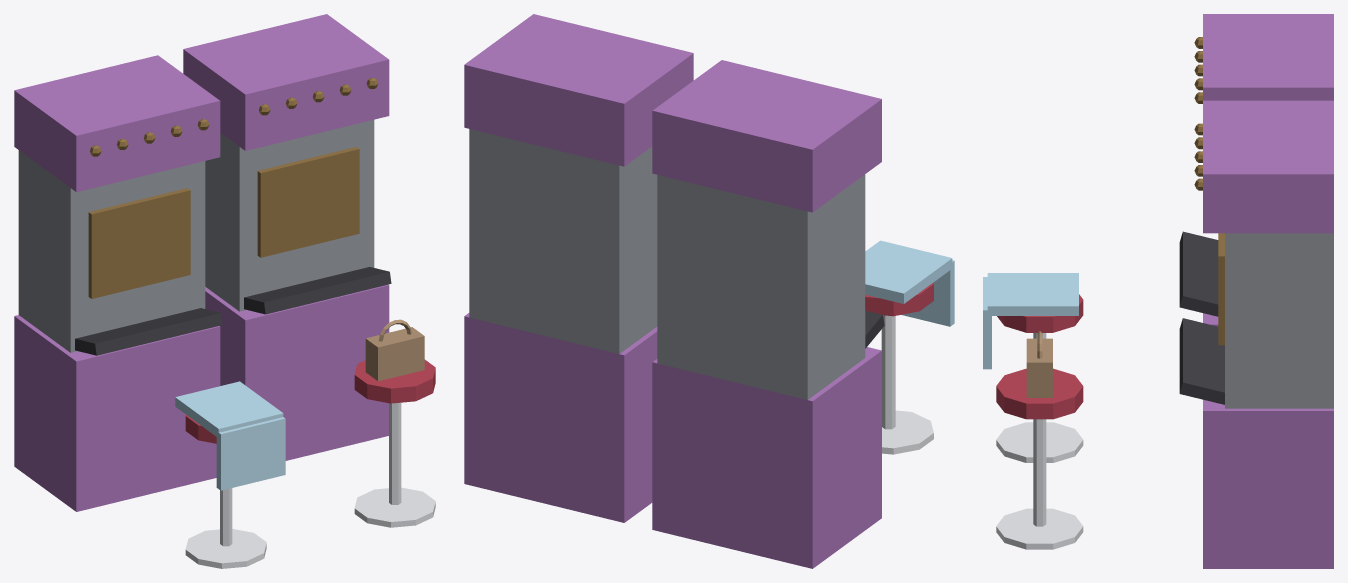
Rendered from CR_Tragaperras_Fila.fbx.
The picture shows the model from 3 angles, left to right: view 1: azimuth 30°, elevation 25°; view 2: azimuth 150°, elevation 25°; view 3: azimuth 270°, elevation 25°; orthographic projection. The views are drawn at different scales.
Parts seen in each view (by area): view 1: CR_Tragaperras_Fila; view 2: CR_Tragaperras_Fila; view 3: CR_Tragaperras_Fila.
Part boxes in pixels (x1,y1,x2,y2): CR_Tragaperras_Fila: [14, 14, 435, 568]; CR_Tragaperras_Fila: [464, 14, 954, 568]; CR_Tragaperras_Fila: [983, 14, 1333, 568].
Bounding box in the file's own units: 1.74 × 2 × 1.61.
